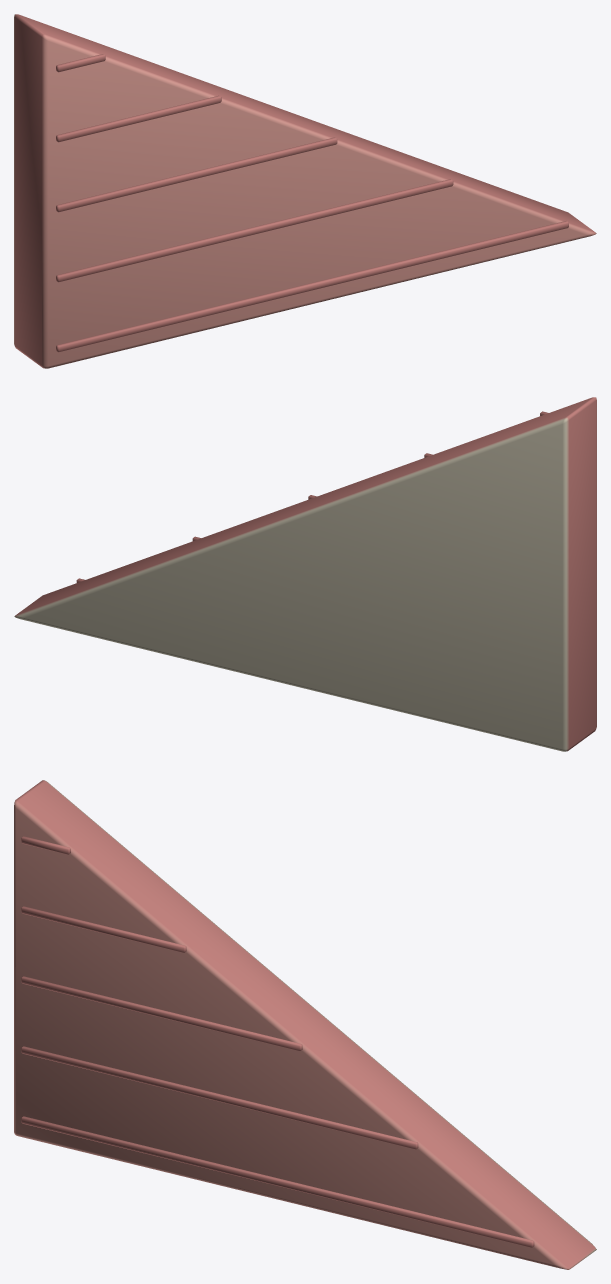
The model's file is gable_pink_r.glb.
3 views of the same model, one above another, from view 1: azimuth 30°, elevation 25°; view 2: azimuth 150°, elevation 25°; view 3: azimuth 330°, elevation 25° (orthographic).
Visible parts, largest first — view 1: gable_pink_r; view 2: gable_pink_r; view 3: gable_pink_r.
Boxes of the visible parts, x1,y1,x2,y2 form: gable_pink_r: (14, 14, 596, 368); gable_pink_r: (14, 397, 596, 751); gable_pink_r: (14, 780, 596, 1269).
Size of the model in its own units: 1.99 by 1.15 by 0.216.
